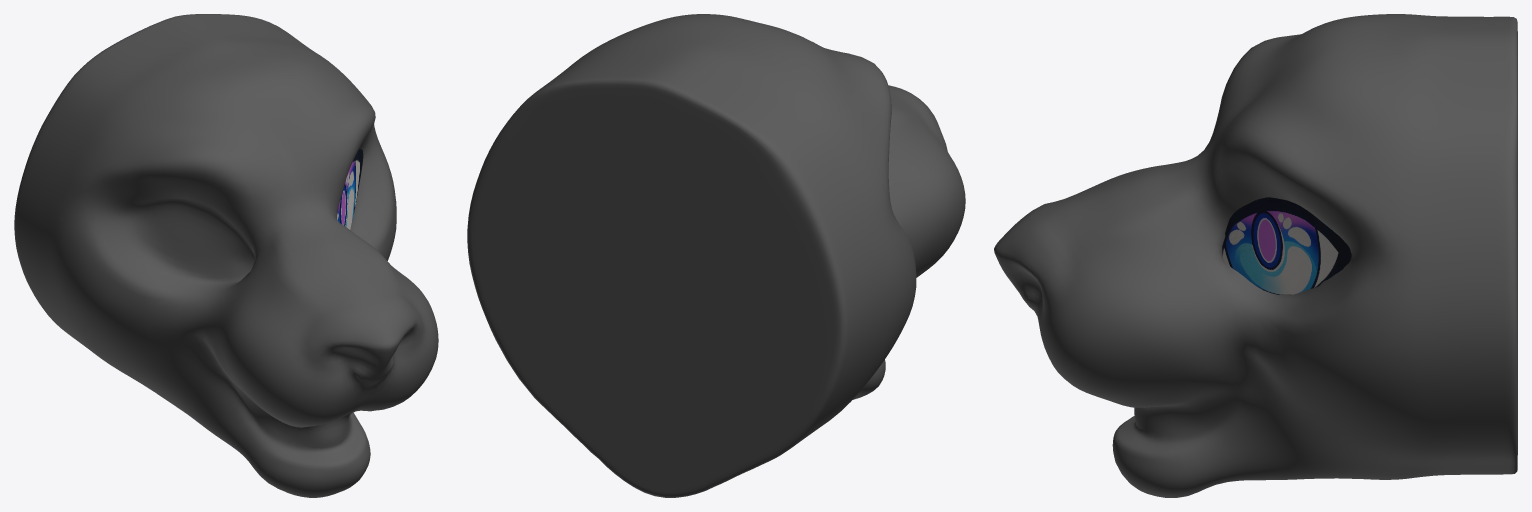
The model's file is slim_big_cat.glb.
3 views of the same model, side by side, from view 1: azimuth 30°, elevation 25°; view 2: azimuth 150°, elevation 25°; view 3: azimuth 270°, elevation 25° (orthographic). The views are drawn at different scales.
Parts seen in each view (by area): view 1: Retopo_SLIM_BASE.004, EYES; view 2: Retopo_SLIM_BASE.004; view 3: Retopo_SLIM_BASE.004, EYES.
Part boxes in pixels (x1,y1,x2,y2): Retopo_SLIM_BASE.004: [14, 14, 438, 497]; EYES: [337, 149, 363, 229]; Retopo_SLIM_BASE.004: [467, 14, 965, 497]; Retopo_SLIM_BASE.004: [994, 14, 1517, 497]; EYES: [1222, 197, 1351, 294].
Bounding box in the file's own units: 12.28 × 13.48 × 14.17.
2 materials, 1 textured.
